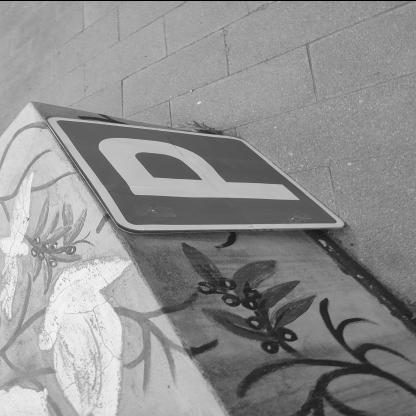Parking-Sign: (46, 116, 348, 232)
